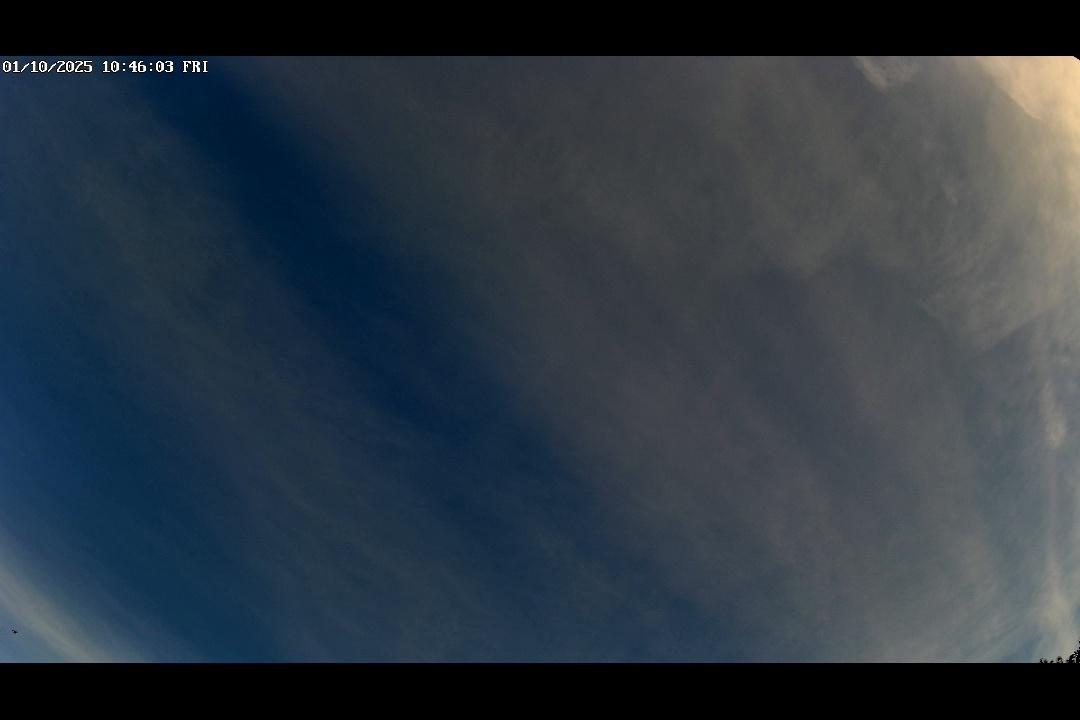WildLife: (1, 623, 32, 640)
